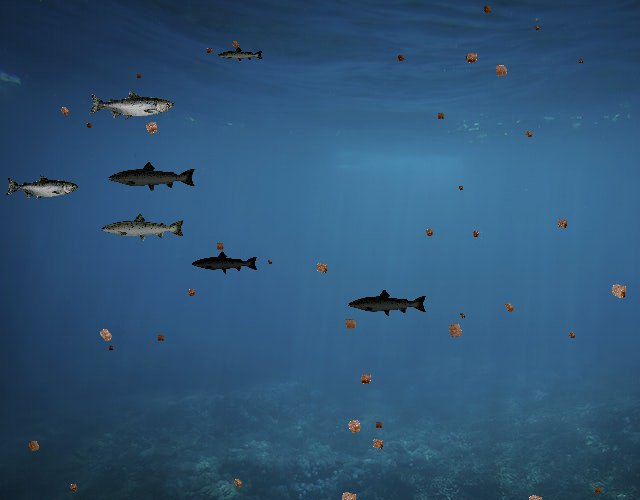Fish: (107, 161, 197, 193), (100, 212, 186, 243), (88, 90, 174, 121), (348, 289, 429, 318), (5, 174, 78, 201), (192, 250, 260, 274), (218, 46, 265, 63)
Pellet: (489, 59, 513, 83), (310, 256, 333, 279), (499, 297, 519, 317), (55, 102, 74, 121), (227, 36, 243, 52), (372, 418, 386, 432), (83, 119, 96, 132), (456, 182, 466, 192)
